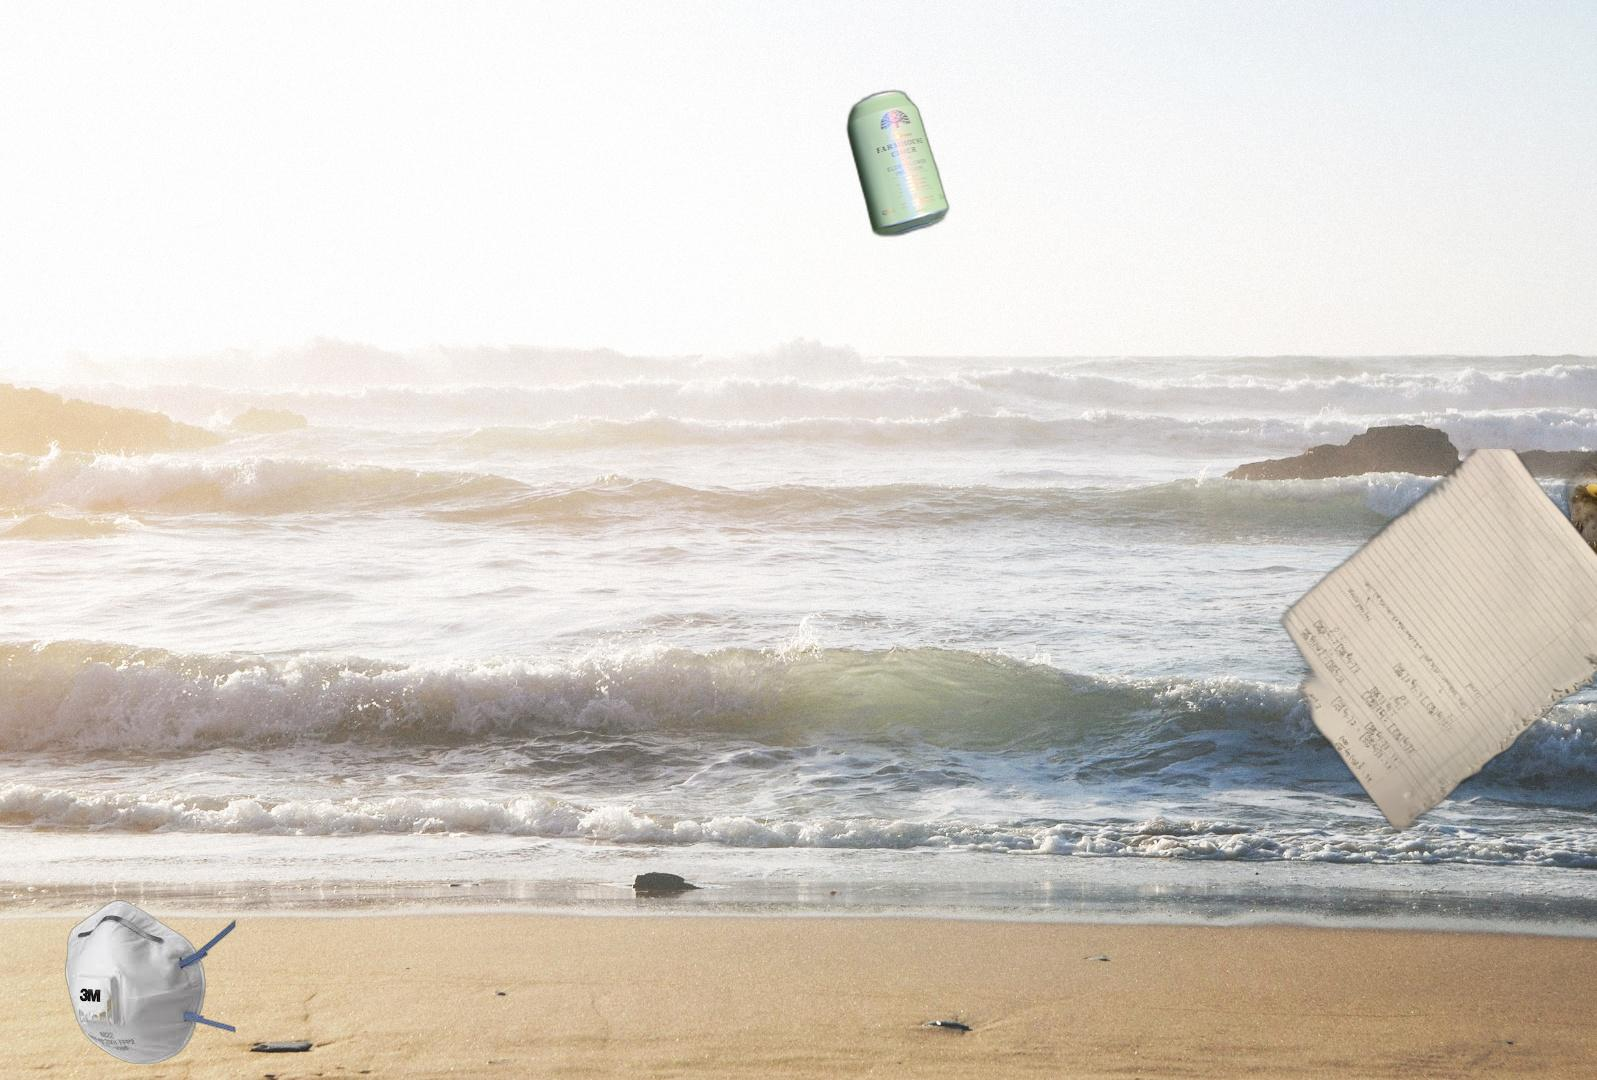metal-cans: (842, 86, 952, 241)
paper: (1272, 450, 1597, 833)
trash: (61, 898, 237, 1067)
trashbox-cardboard: (1206, 337, 1597, 912)
